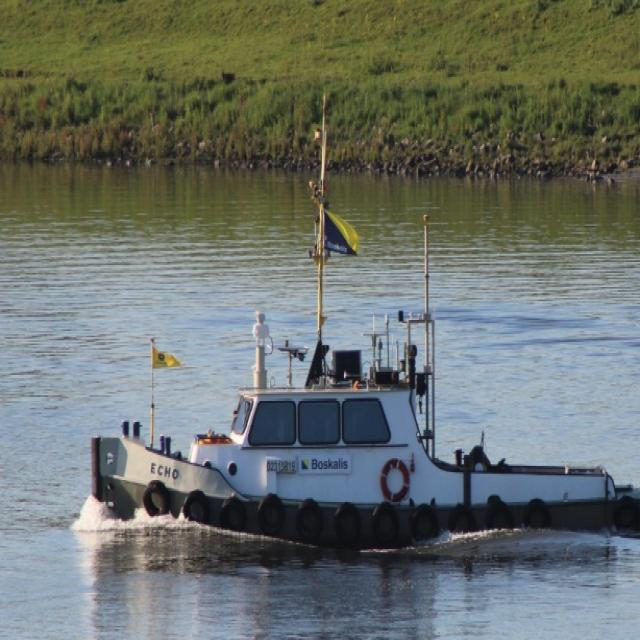tugboat: (87, 197, 640, 567)
